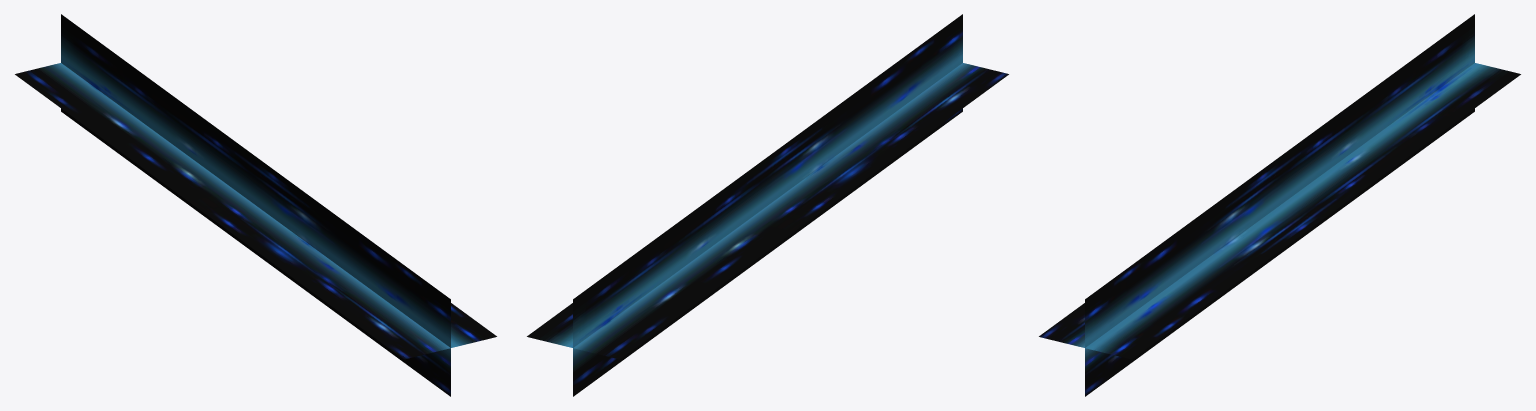
3 renders of one model, left to right at view 1: azimuth 30°, elevation 25°; view 2: azimuth 150°, elevation 25°; view 3: azimuth 330°, elevation 25°, orthographic.
Visible parts, largest first — view 1: model_Object56; view 2: model_Object56; view 3: model_Object56.
Part boxes in pixels (x1,y1,x2,y2): model_Object56: [15, 14, 496, 396]; model_Object56: [527, 14, 1008, 396]; model_Object56: [1039, 14, 1520, 396].
Size of the model in its own units: 1.81 by 1.81 by 13.09.
1 material, 1 textured.
